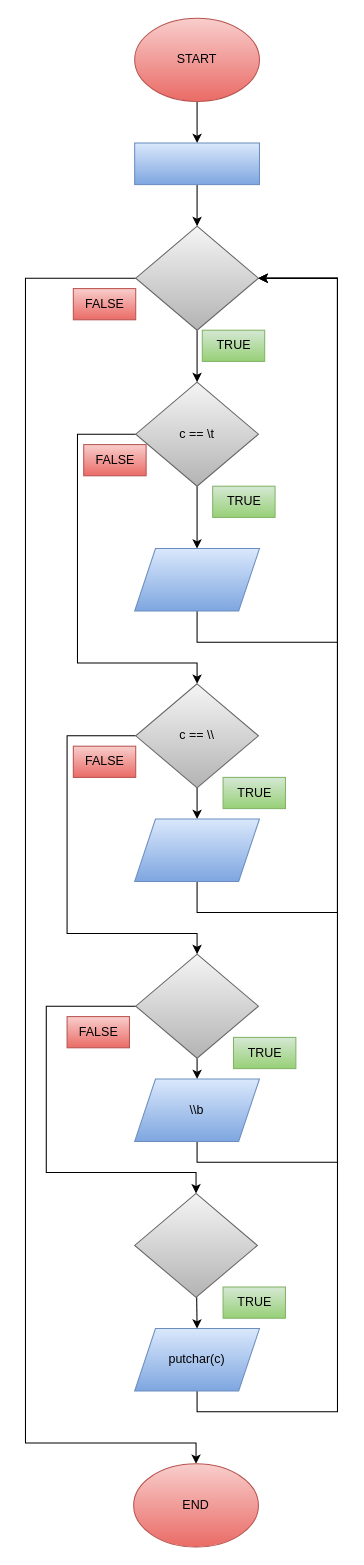
Some shapes in this 364 by 1565 pixel diagram are drawn without their labels. Here are the shapes that lost their labels. From the top down, the centre of each, then its label:
At point (196, 163): "int c".
At point (196, 277): "c = getchar != EOF".
At point (196, 579): "print \\t".
At point (196, 849): "print \\\\".
At point (196, 1005): "c == \b".
At point (195, 1244): "c != \t && c != \\ && c != \b".
